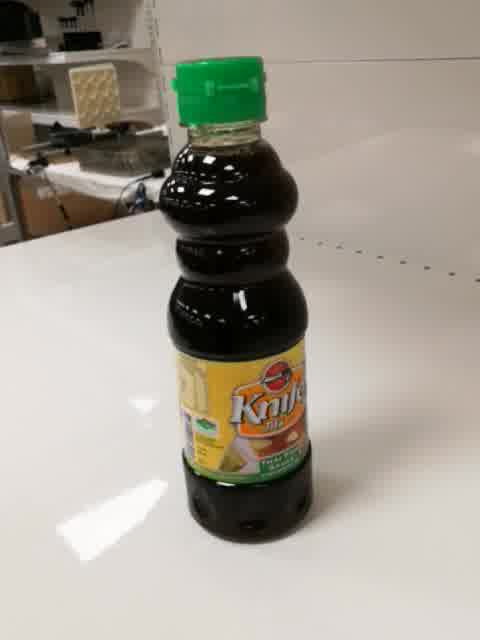cookingoil: (156, 54, 314, 546)
